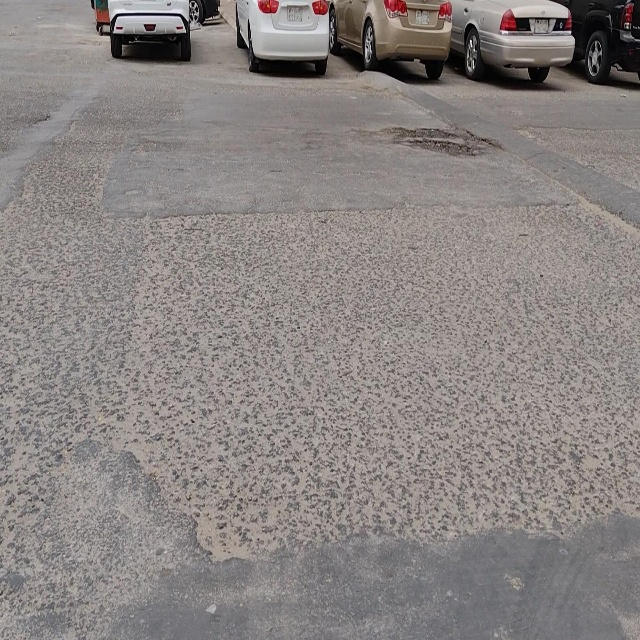pothole: (390, 125, 489, 161)
